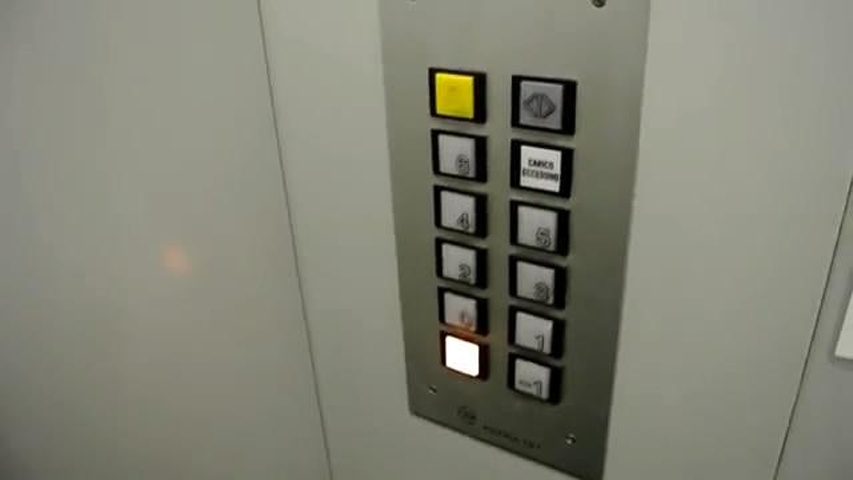-1: (506, 349, 564, 407)
0: (436, 283, 492, 337)
1: (505, 302, 568, 360)
2: (433, 234, 491, 290)
3: (506, 252, 570, 312)
4: (431, 181, 490, 241)
5: (507, 196, 573, 258)
6: (428, 126, 490, 185)
empty: (426, 65, 489, 126), (438, 329, 493, 383)
open: (509, 70, 579, 137)
text: (508, 136, 576, 201)
